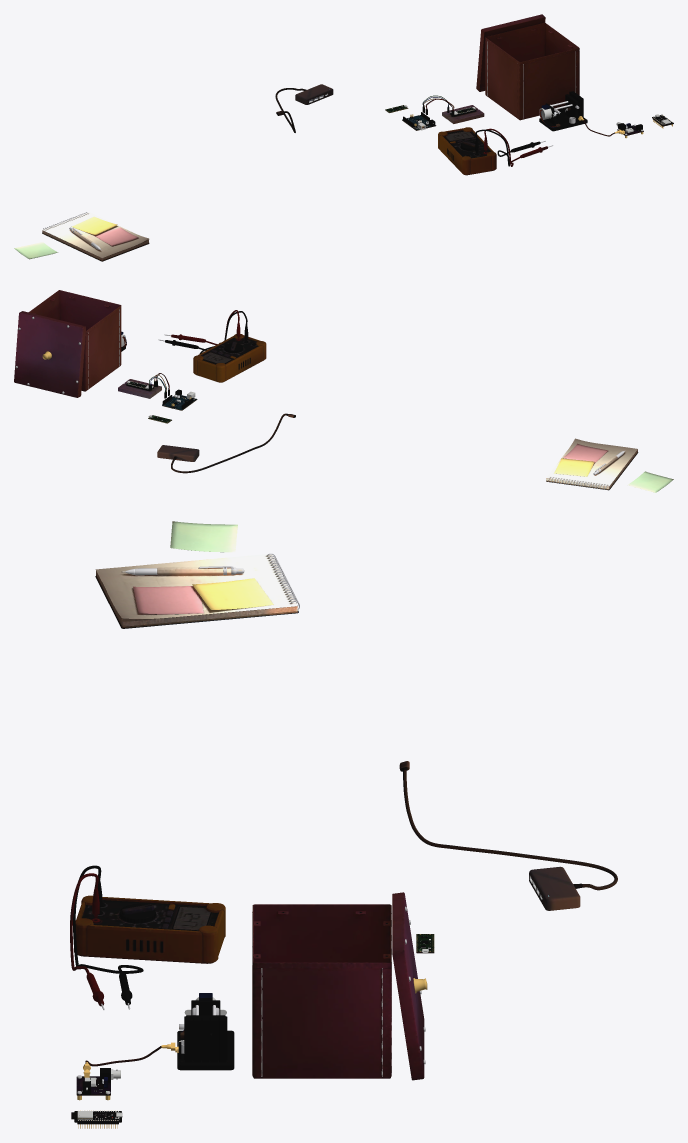
The model's file is electronics.glb.
The picture shows the model from 3 angles, top to bottom: view 1: azimuth 30°, elevation 25°; view 2: azimuth 150°, elevation 25°; view 3: azimuth 270°, elevation 25°; orthographic projection. The views are drawn at different scales.
Parts seen in each view (by area): view 1: elec_faraday_grp__mesh, elec_notes__mesh, elec_multimeter_grp__mesh, elec_stm_stage_grp__mesh, elec_lab_wiring_grp__mesh, elec_hub__mesh, elec_breadboard_grp__mesh, elec_uno__mesh; view 2: elec_faraday_grp__mesh, elec_notes__mesh, elec_multimeter_grp__mesh, elec_lab_wiring_grp__mesh, elec_hub__mesh, elec_breadboard_grp__mesh, elec_uno__mesh, elec_hub_cable__mesh; view 3: elec_faraday_grp__mesh, elec_notes__mesh, elec_multimeter_grp__mesh, elec_stm_stage_grp__mesh, elec_lab_wiring_grp__mesh, elec_hub__mesh, elec_hub_cable__mesh, elec_preamp_grp__mesh.
Boxes of the visible parts, <box> form: elec_faraday_grp__mesh: <box>476,14,579,120</box>; elec_notes__mesh: <box>14,212,149,261</box>; elec_multimeter_grp__mesh: <box>438,127,496,175</box>; elec_stm_stage_grp__mesh: <box>539,91,587,131</box>; elec_lab_wiring_grp__mesh: <box>422,95,621,166</box>; elec_hub__mesh: <box>295,84,333,104</box>; elec_breadboard_grp__mesh: <box>442,105,484,123</box>; elec_uno__mesh: <box>402,112,436,130</box>; elec_faraday_grp__mesh: <box>14,290,121,397</box>; elec_notes__mesh: <box>546,438,673,492</box>; elec_multimeter_grp__mesh: <box>193,334,266,382</box>; elec_lab_wiring_grp__mesh: <box>148,310,248,398</box>; elec_hub__mesh: <box>157,445,199,461</box>; elec_breadboard_grp__mesh: <box>118,379,161,398</box>; elec_uno__mesh: <box>162,389,197,410</box>; elec_hub_cable__mesh: <box>171,413,295,473</box>; elec_faraday_grp__mesh: <box>252,892,427,1080</box>; elec_notes__mesh: <box>95,521,299,628</box>; elec_multimeter_grp__mesh: <box>74,895,225,963</box>; elec_stm_stage_grp__mesh: <box>175,993,234,1070</box>; elec_lab_wiring_grp__mesh: <box>70,865,175,1070</box>; elec_hub__mesh: <box>529,866,582,910</box>; elec_hub_cable__mesh: <box>399,761,617,890</box>; elec_preamp_grp__mesh: <box>76,1068,120,1100</box>.
Size of the model in its own units: 1.66 by 0.1665 by 0.6364.
Materials: 5 (5 with a texture image).
